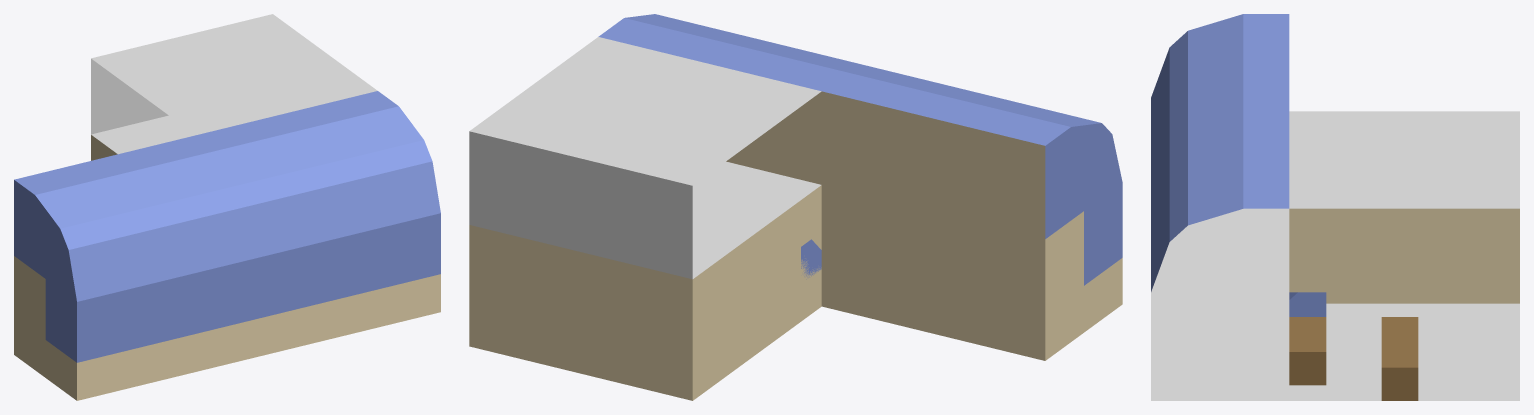
File: store.fbx
3 views of the same model, side by side, from view 1: azimuth 30°, elevation 25°; view 2: azimuth 150°, elevation 25°; view 3: azimuth 270°, elevation 25° (orthographic). The views are drawn at different scales.
Parts seen in each view (by area): view 1: Plane; view 2: Plane, Plane.001; view 3: Plane, Plane.001.
Boxes of the visible parts, x1,y1,x2,y2 form: Plane: [14, 14, 440, 400]; Plane: [469, 14, 1122, 400]; Plane.001: [801, 239, 821, 279]; Plane: [1151, 14, 1519, 400]; Plane.001: [1289, 292, 1418, 400].
Size of the model in its own units: 250 by 115 by 200.
